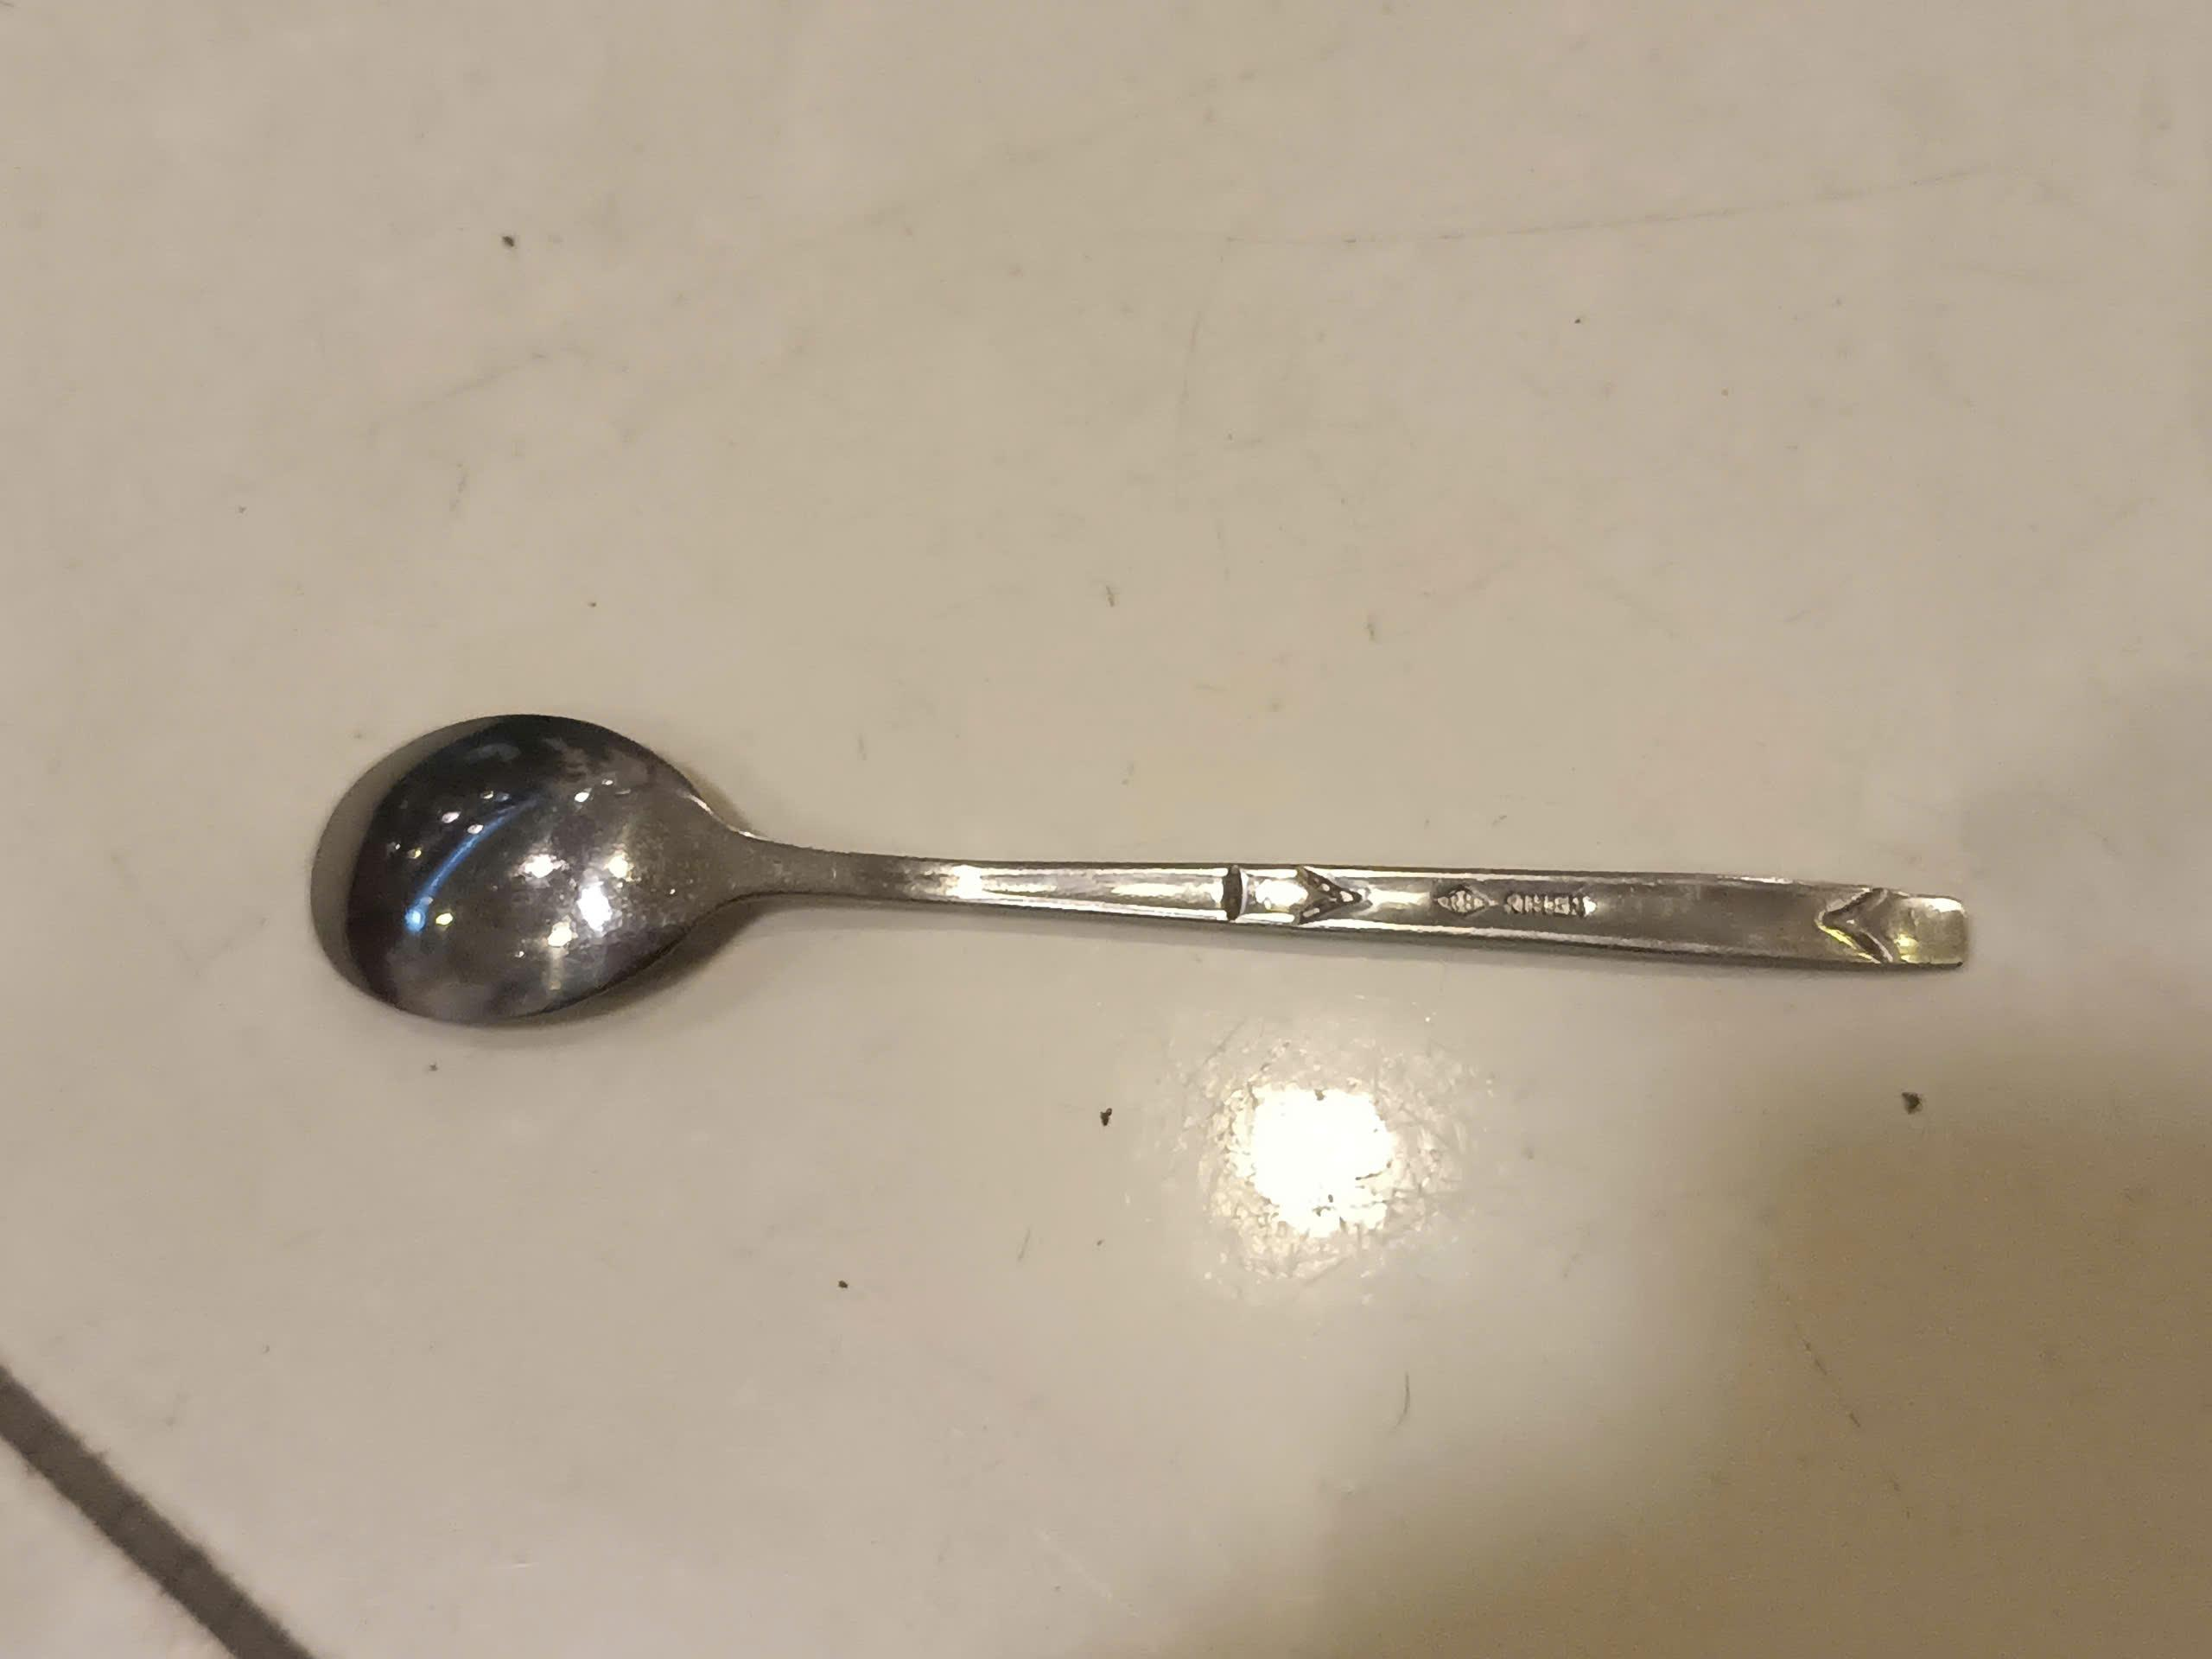Vo co: (308, 709, 1975, 1032)
